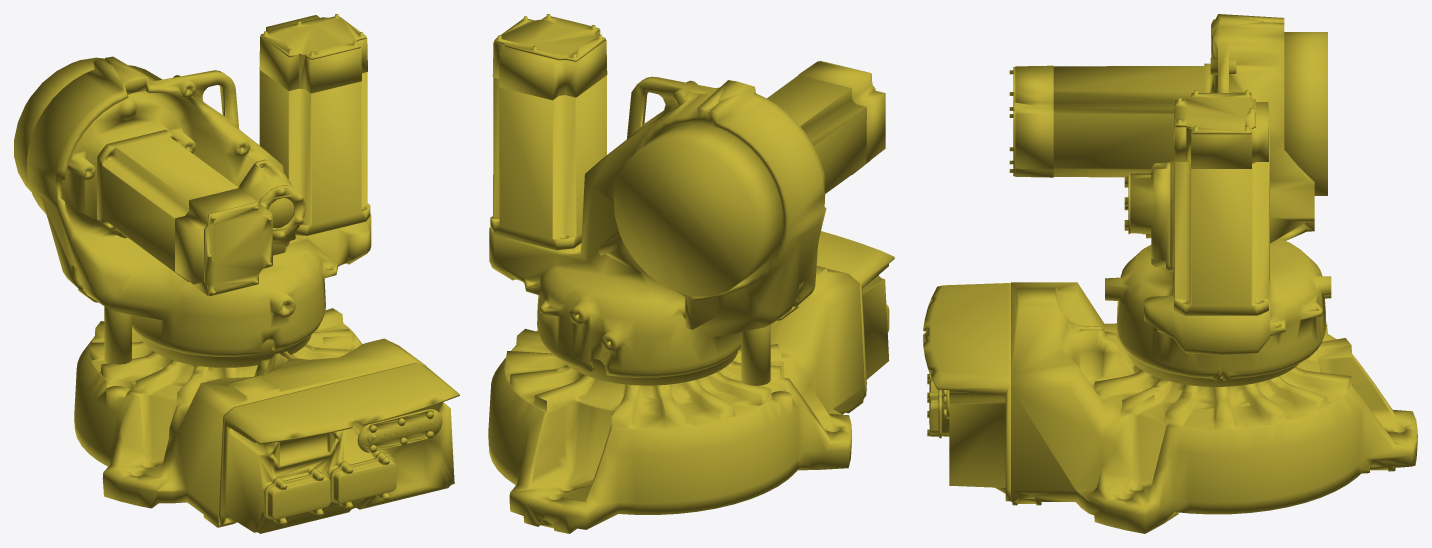
Rendered from polish001.glb.
3 renders of one model, left to right at view 1: azimuth 30°, elevation 25°; view 2: azimuth 150°, elevation 25°; view 3: azimuth 270°, elevation 25°, orthographic. The views are drawn at different scales.
Size of the model in its own units: 5.34 by 5.9 by 6.76.
